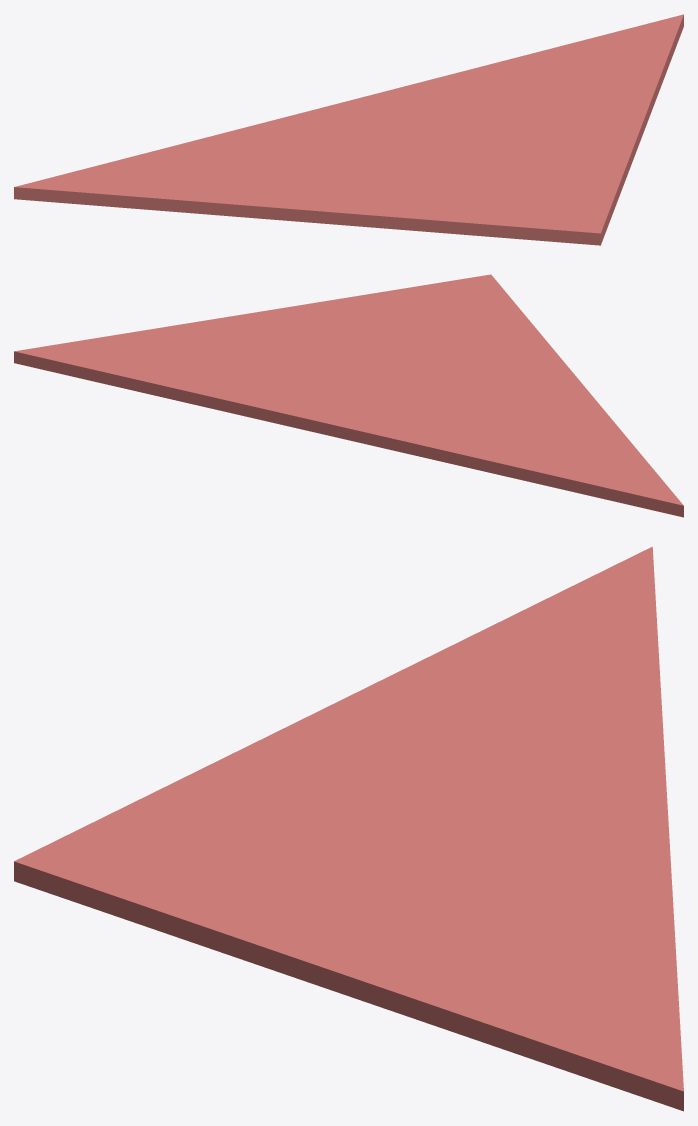
File: centerbase_fixedextenttrilayer.gltf
The picture shows the model from 3 angles, top to bottom: view 1: azimuth 30°, elevation 25°; view 2: azimuth 150°, elevation 25°; view 3: azimuth 270°, elevation 25°; orthographic projection. The views are drawn at different scales.
Parts seen in each view (by area): view 1: triangulo; view 2: triangulo; view 3: triangulo.
Part boxes in pixels (x1,y1,x2,y2): triangulo: (14,14,683,245); triangulo: (14,274,683,517); triangulo: (14,546,683,1111).
Size of the model in its own units: 58708 by 1000 by 30494.
